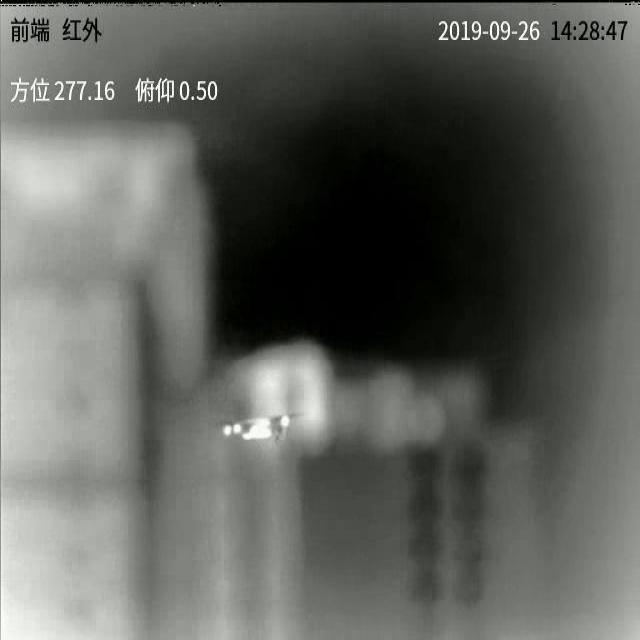drone: (216, 413, 305, 440)
